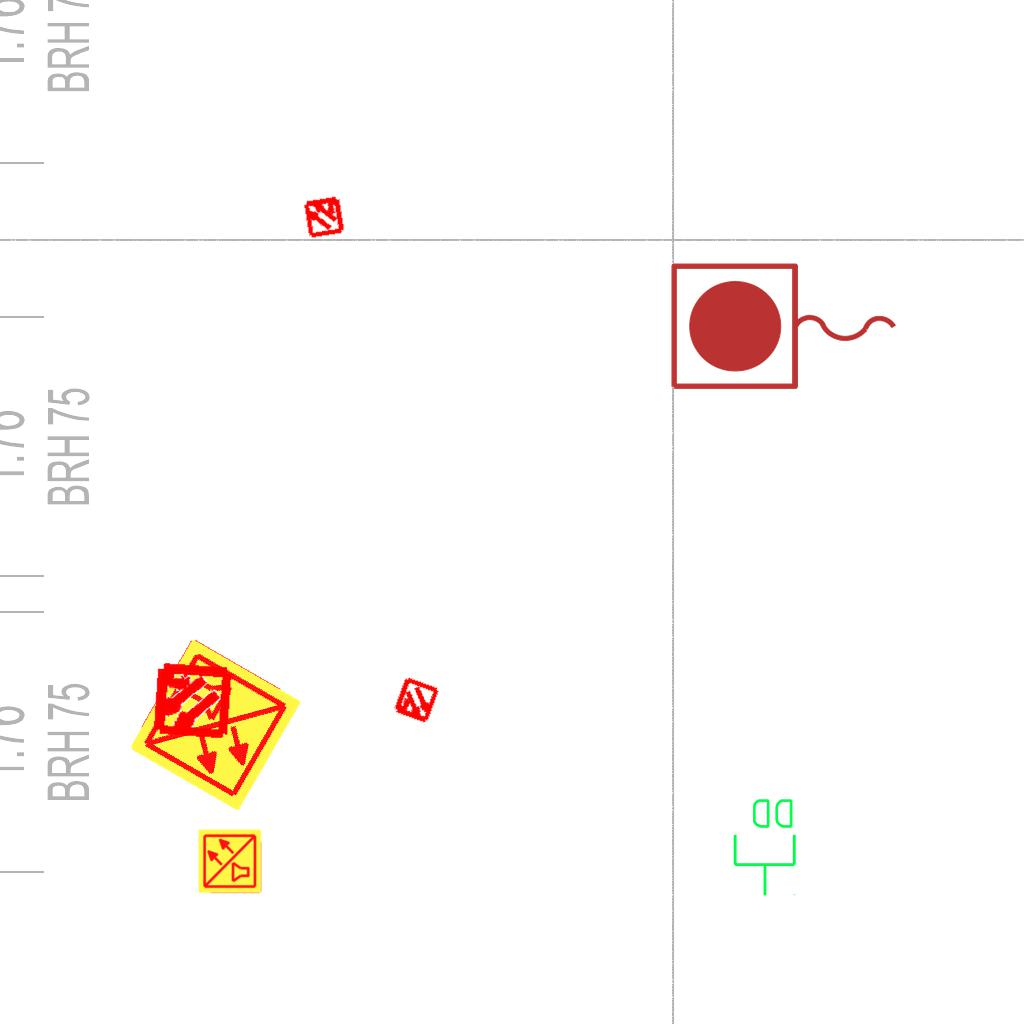Datenanschluss_zweifach: (731, 795, 800, 898)
OKW_Multisensormelder_(Kombination_optischer_Rauch-Kahlenmonoxid_Waerme-Melder): (124, 634, 306, 816), (197, 828, 263, 894)
OT_Multisensormelder_(Kombination_RMO_WMD): (130, 640, 251, 761), (380, 665, 452, 737), (291, 183, 357, 249)
Zugtaster: (663, 256, 907, 400)
